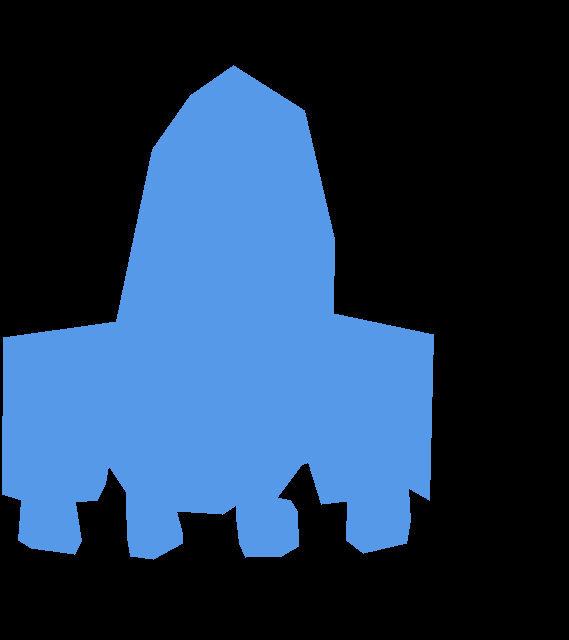Airplane: (2, 65, 434, 559)
